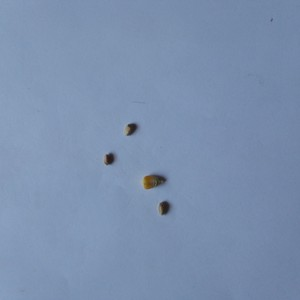maiz: (140, 169, 166, 191)
trigo: (101, 151, 117, 168), (157, 199, 171, 217), (124, 121, 138, 138)
